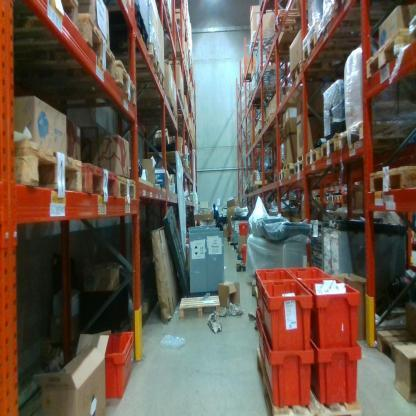pallets: (0, 0, 141, 113), (0, 141, 136, 203), (254, 345, 363, 415), (284, 8, 361, 94), (277, 123, 364, 184), (362, 33, 416, 92), (366, 156, 416, 198), (134, 32, 166, 94), (176, 294, 221, 320)
